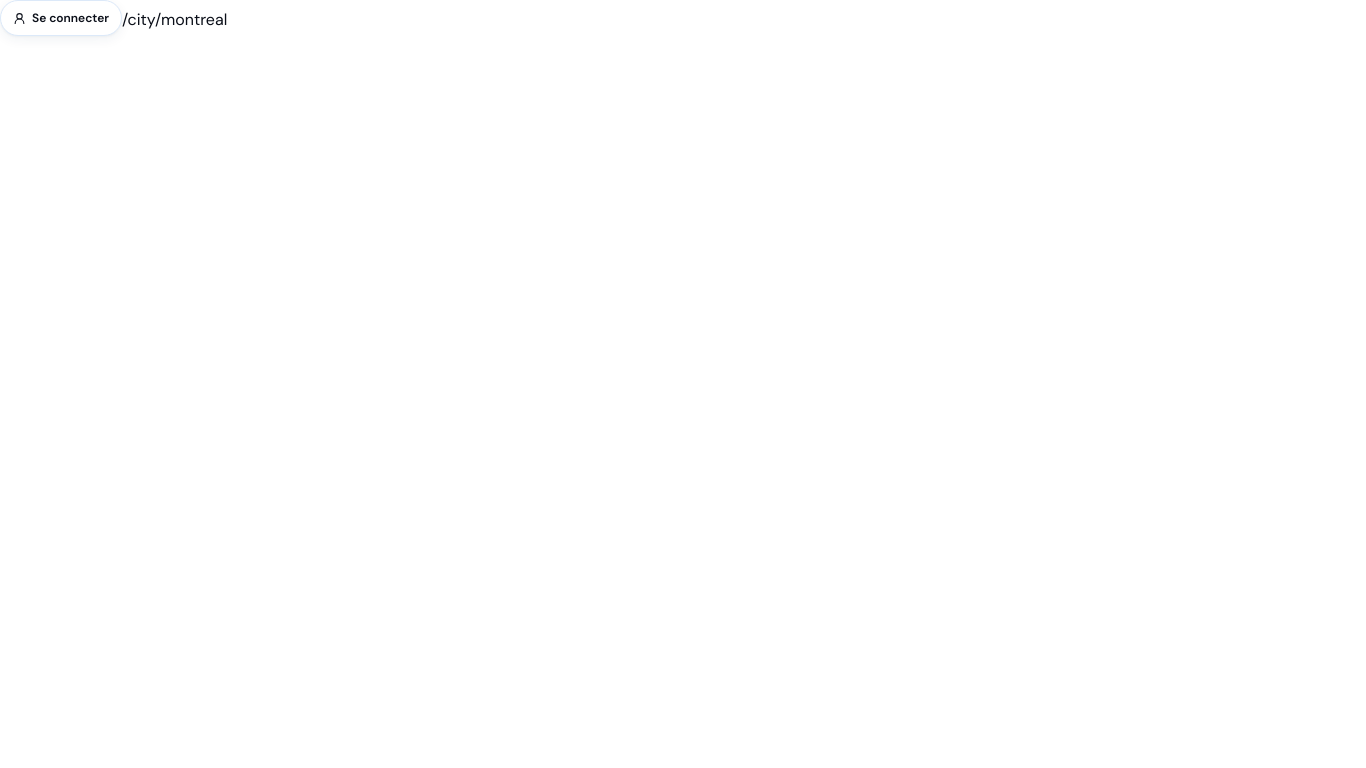
owned QMAPS account navigation › keeps explicit legacy access by Continuer par courriel
The width and height of the screenshot is (1366, 768).
Click the button "Se connecter" at (61, 18), box top-left (0, 0), bottom-right (122, 36)
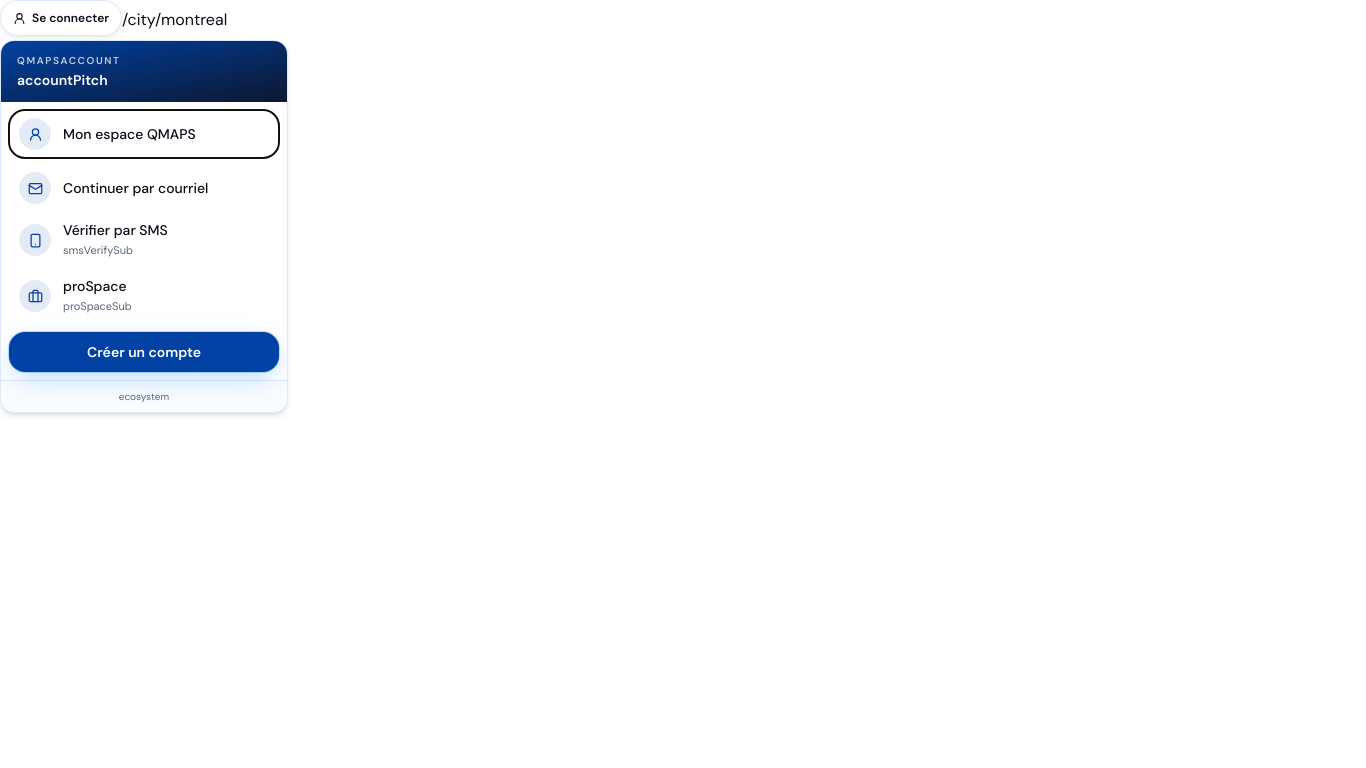
expect the dialog is shown: met, box top-left (0, 40), bottom-right (288, 413)
expect the button "Continuer par courriel" is shown: met
Click the button "Continuer par courriel" at (144, 188), box top-left (9, 164), bottom-right (279, 212)
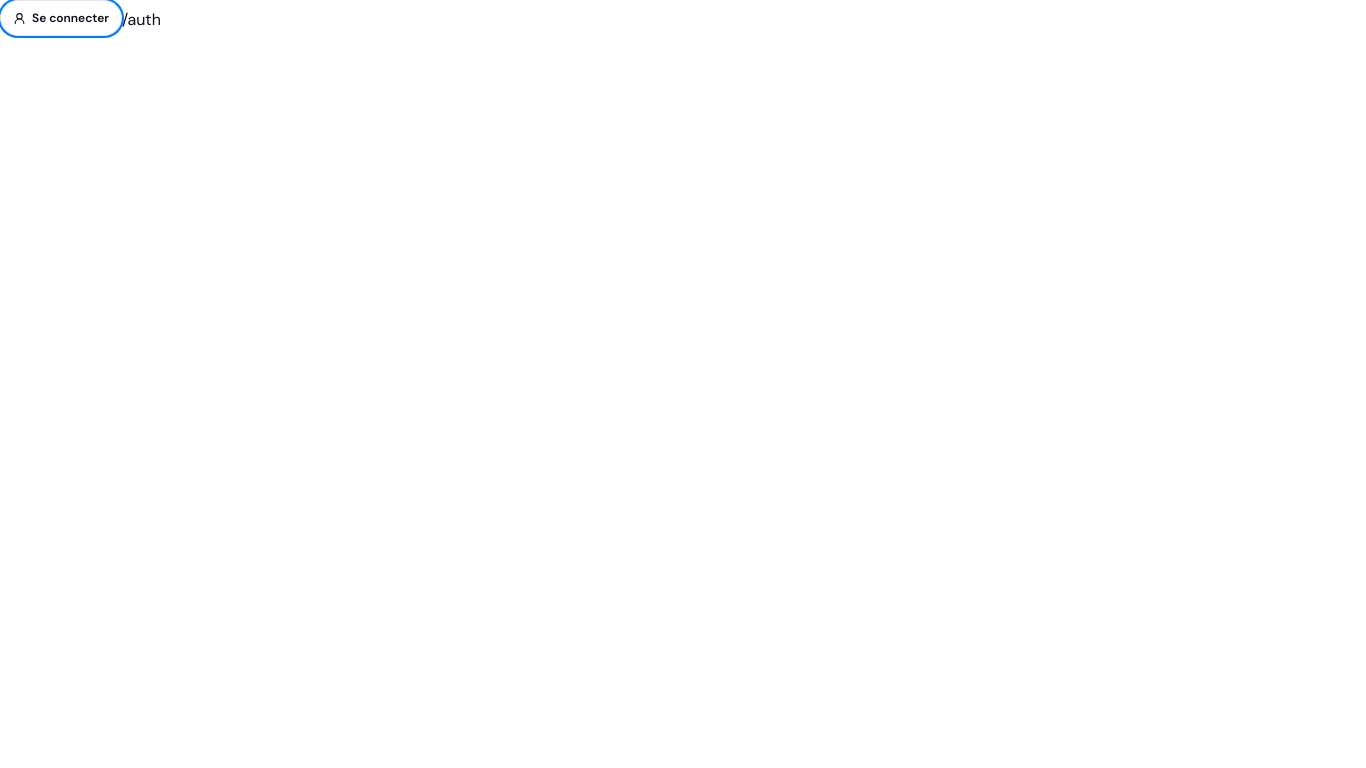
expect the text "/auth" is shown: met, box top-left (122, 8), bottom-right (161, 30)
